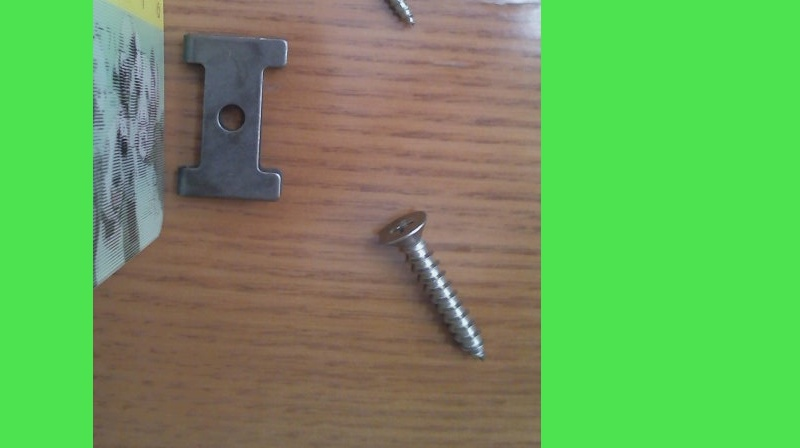O001: (302, 0, 422, 31)
O002: (176, 28, 290, 204)
S001: (373, 203, 489, 368)
